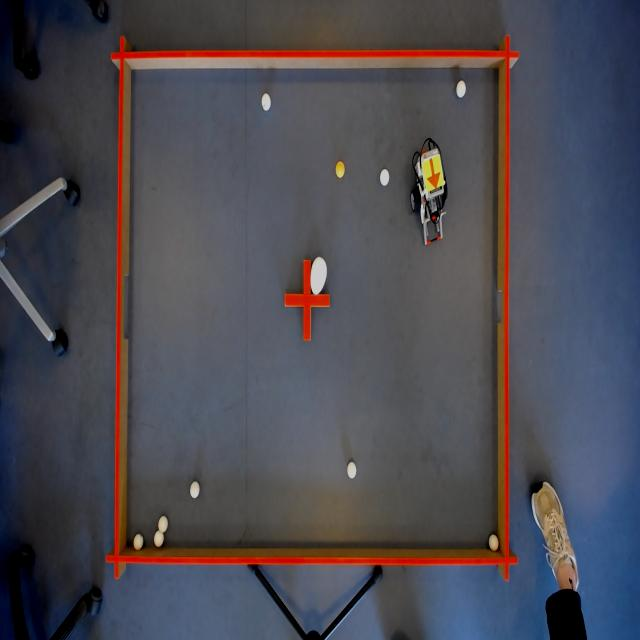cross: (283, 256, 332, 345)
egg: (308, 255, 328, 295)
orange_ball: (334, 157, 346, 182)
robot: (421, 152, 446, 197)
white_ball: (345, 459, 359, 484), (259, 91, 273, 114), (454, 77, 467, 101), (188, 479, 202, 501), (156, 512, 170, 534), (132, 530, 145, 553), (488, 530, 500, 554), (378, 166, 391, 188), (152, 530, 165, 548)
